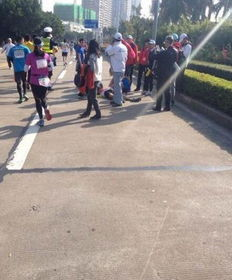10+: (4, 24, 196, 130)
down: (93, 80, 143, 106)
